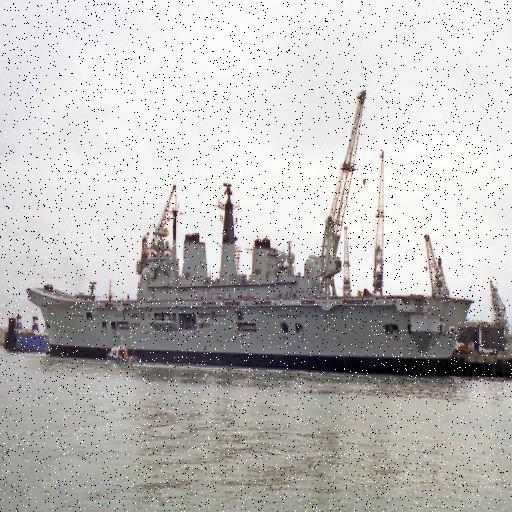Portanaves: (27, 186, 478, 365)
